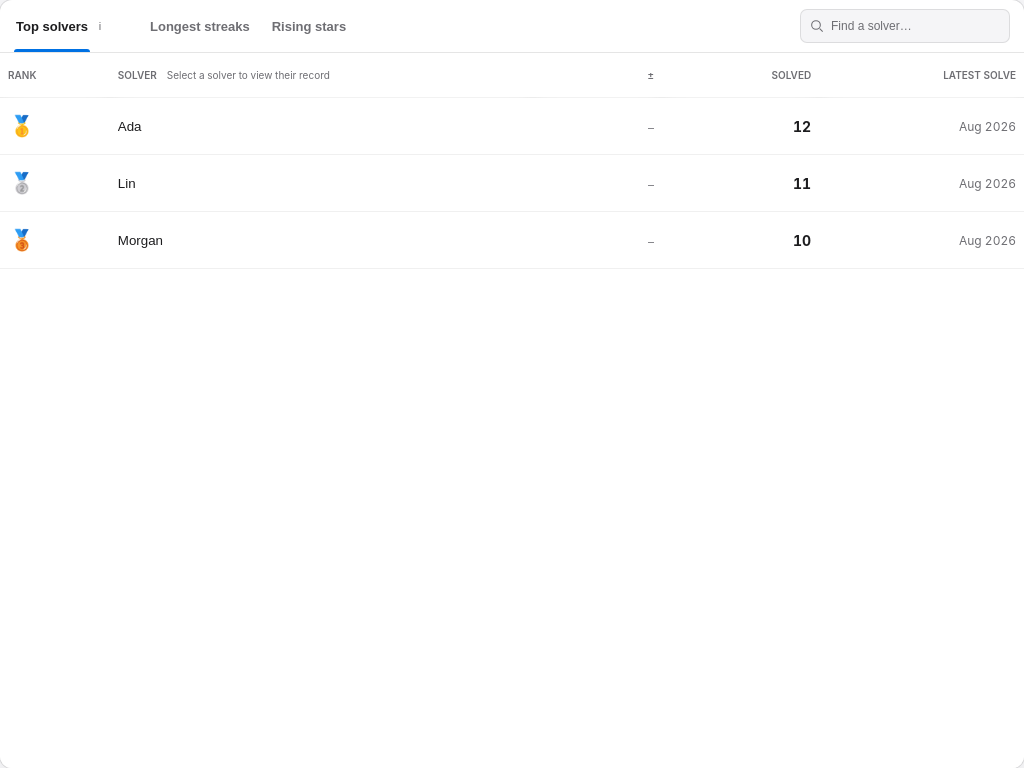
Test: LeaderboardWorkspace › a touch on Rising stars help opens the article link and an outside tap closes it
Click the tab "Rising stars" at (309, 26), box [270,0,348,52]
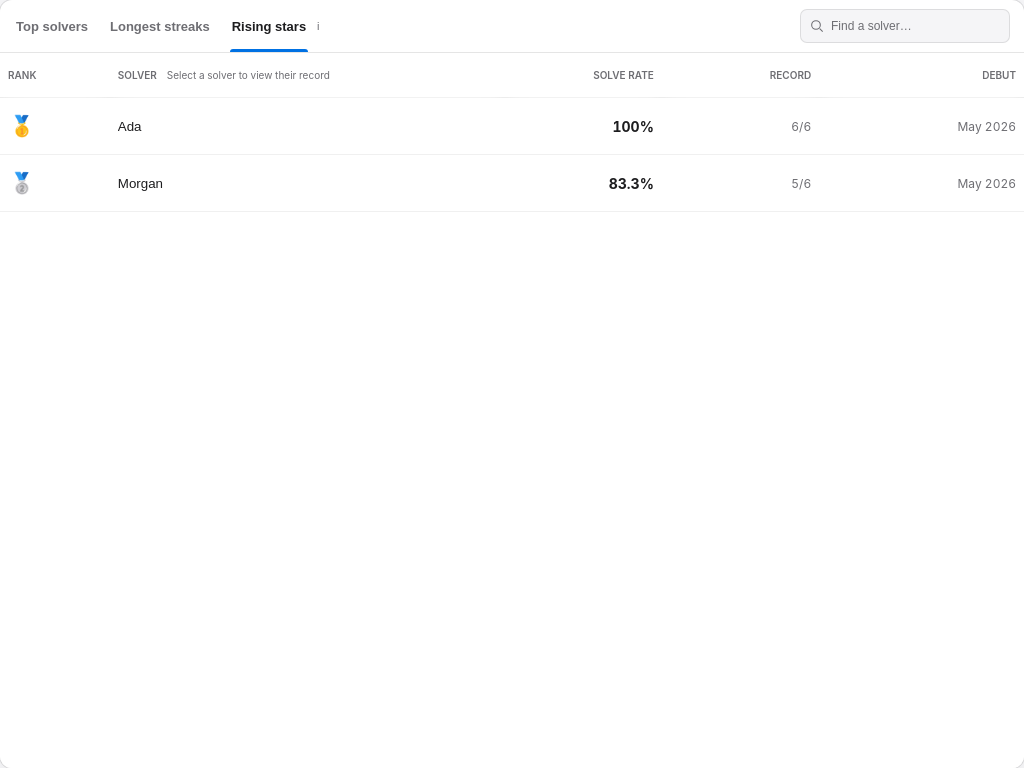
Press the mouse on the button named "How this ranking works" at (328, 26), box [308,6,348,46]
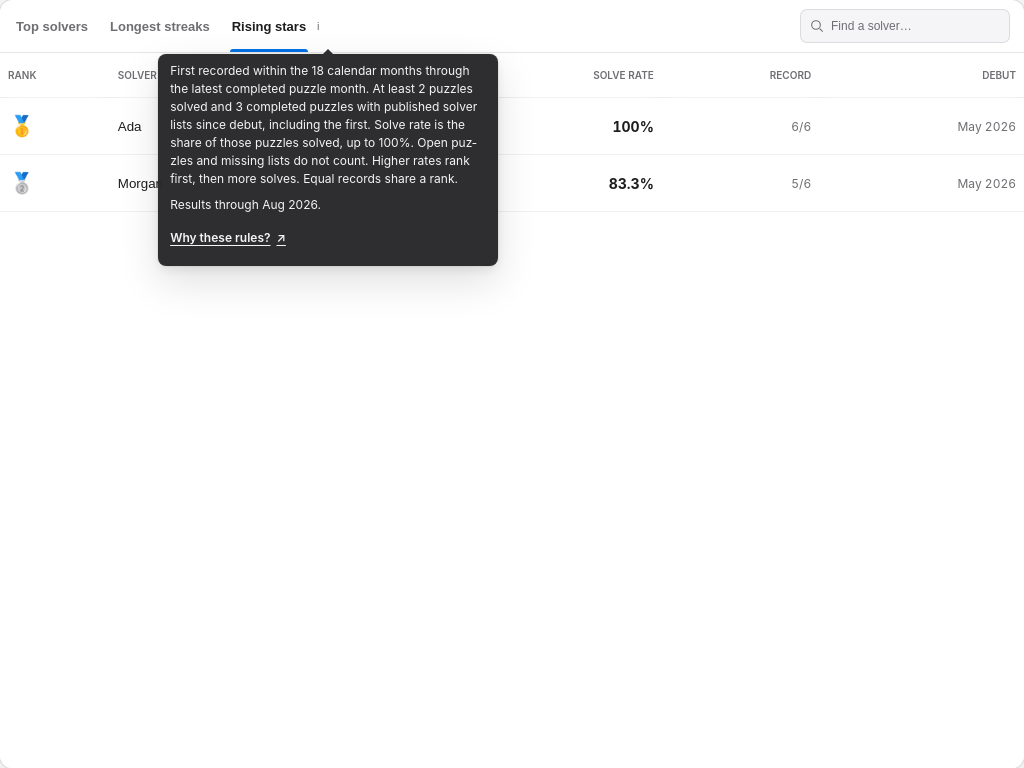
Expected: the link "Why these rules? ↗" is shown, [170,230,286,245]
Press the mouse on the element that starts with "Top solvers" at (512, 384), box [0,0,1023,767]
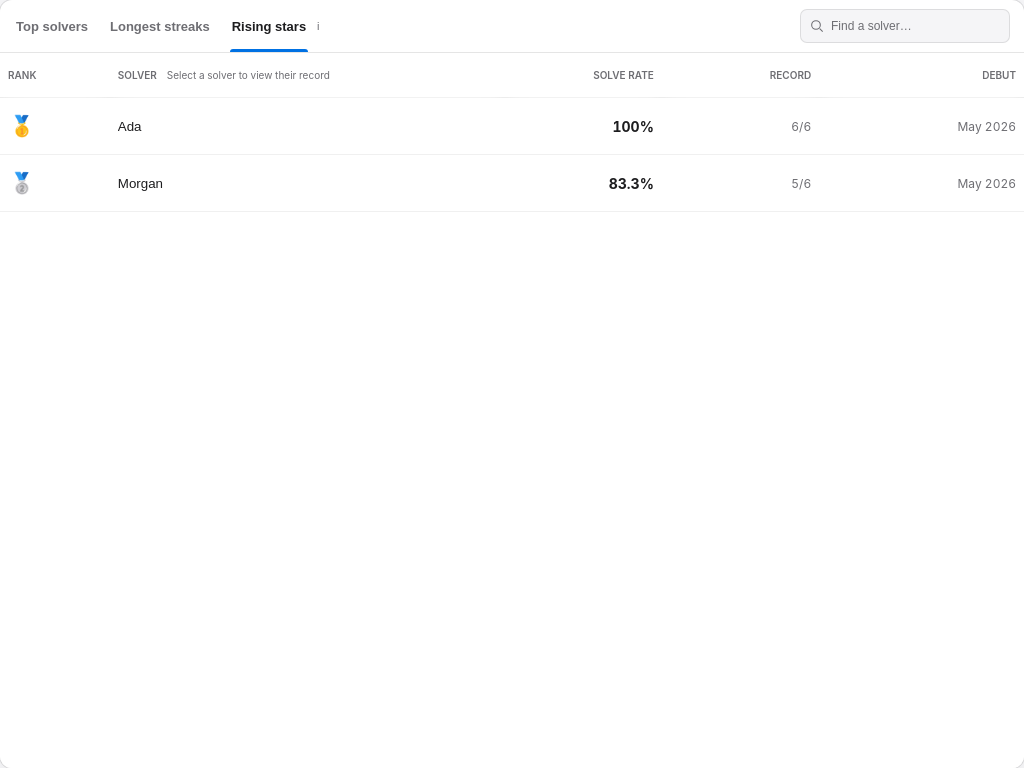
Expected: the link "Why these rules" is gone
